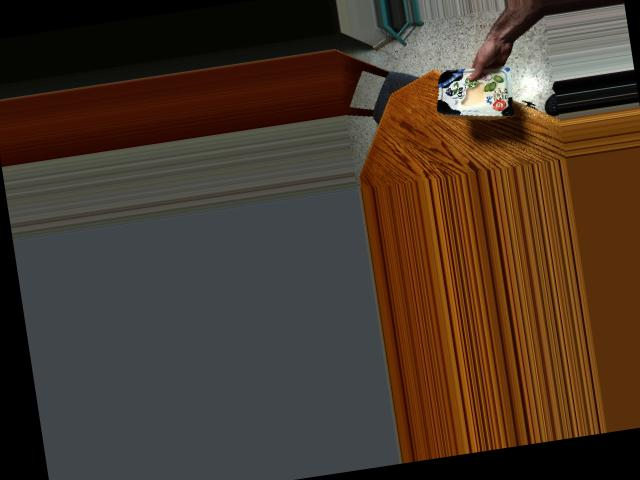cheese: (435, 53, 506, 123)
